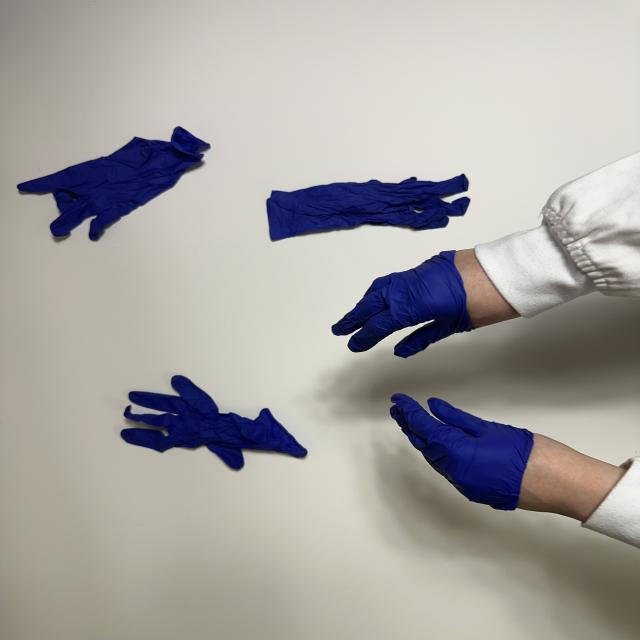glove_not_fitted: (390, 393, 626, 522), (326, 247, 529, 359)
